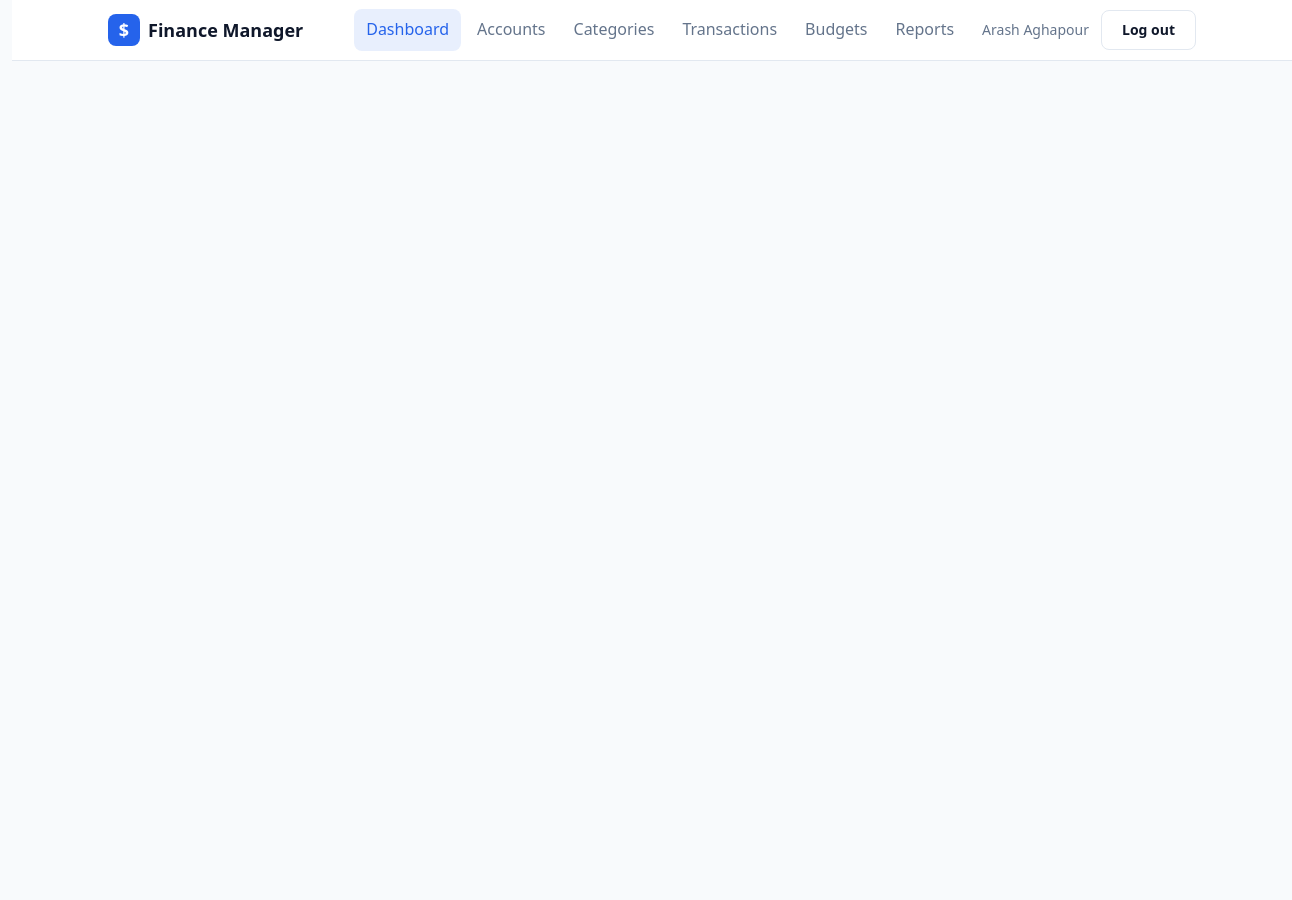
Test: AppLayout › shows the signed-in user and logs out to the login page
Expected: the text "Arash Aghapour" is shown, [982,19,1089,41]
Click the button "Log out". click: (1148, 30)
box: [1101,10,1196,50]
(page scrolled)
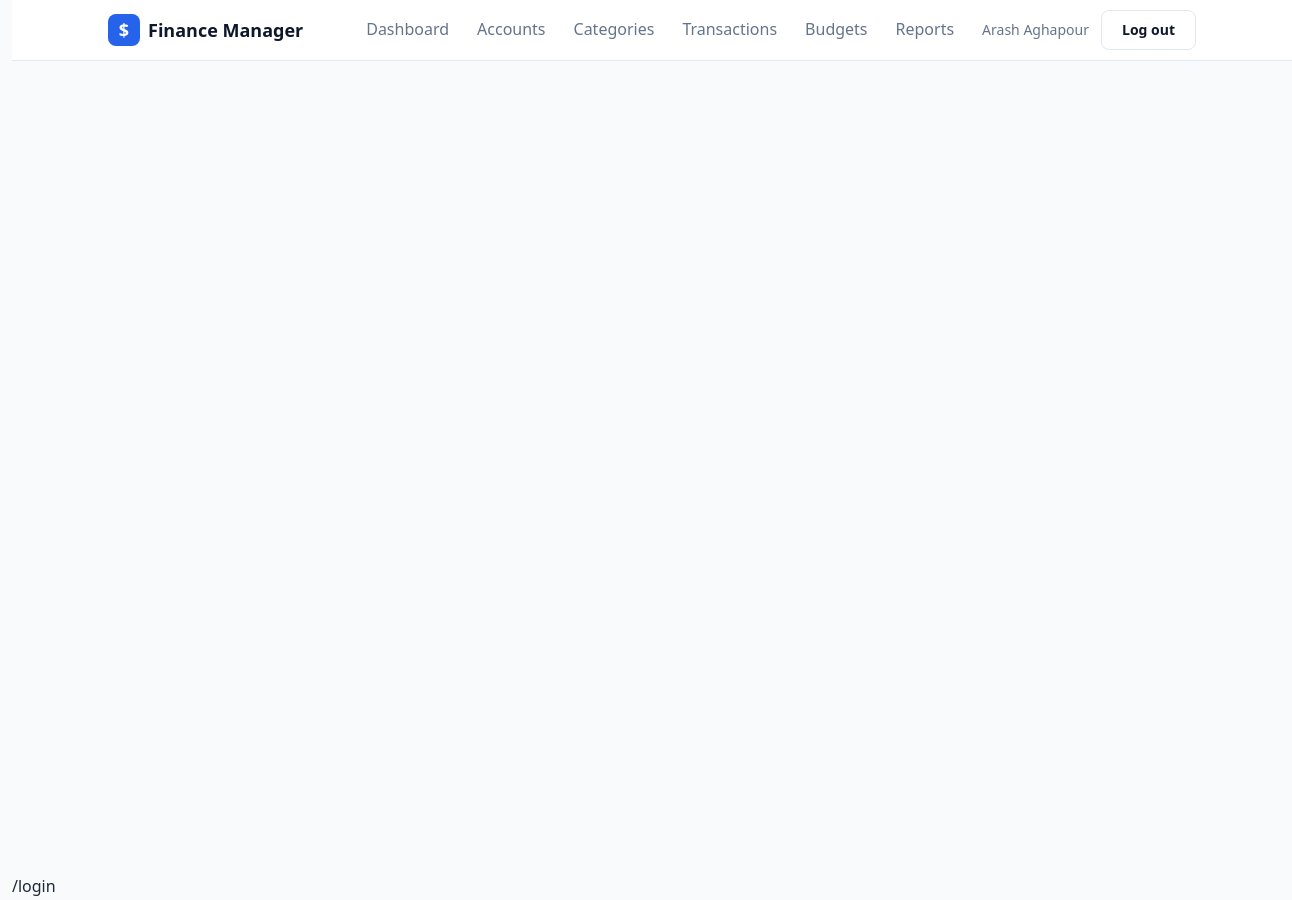
Expected: the text with test id "location" reads "/login", [12,875,56,897]
